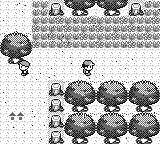captura: (32, 0, 160, 48)
main: (82, 61, 94, 75)
no-caminable: (65, 81, 160, 143), (48, 80, 65, 143), (64, 0, 128, 16), (1, 33, 32, 64), (48, 2, 64, 16), (128, 3, 144, 16)
npc: (18, 61, 30, 75)
